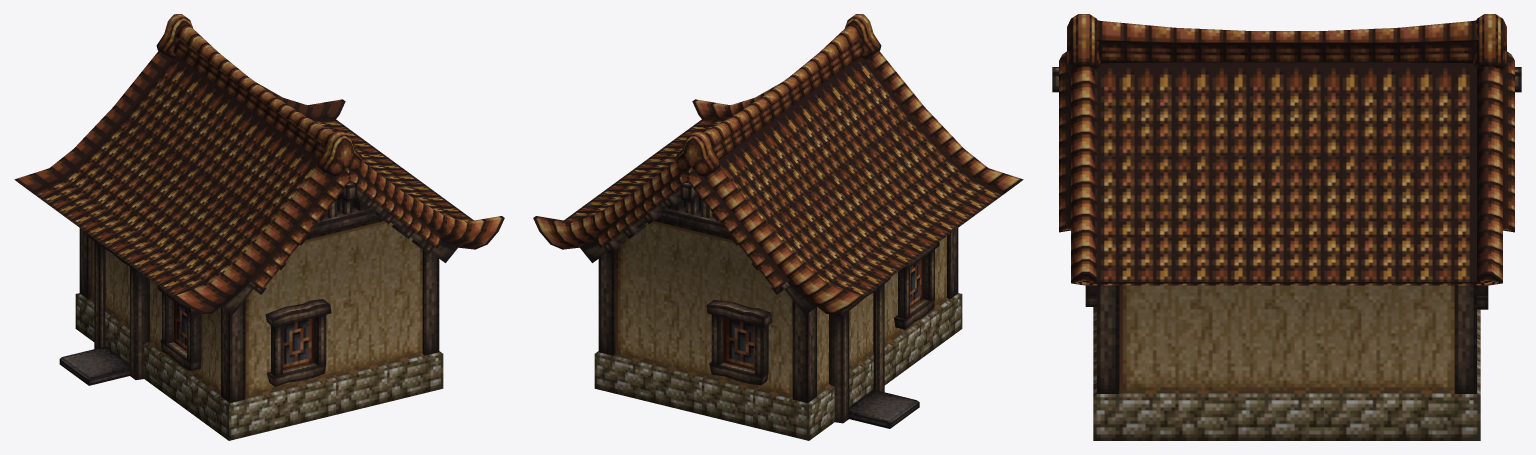
Rendered from EnvBdgMD_Desert_A_Outdoor_House_G.FBX.
3 renders of one model, left to right at view 1: azimuth 30°, elevation 25°; view 2: azimuth 150°, elevation 25°; view 3: azimuth 270°, elevation 25°, orthographic. The views are drawn at different scales.
Parts seen in each view (by area): view 1: EnvBdgMD_Desert_A_Outdoor_House_G; view 2: EnvBdgMD_Desert_A_Outdoor_House_G; view 3: EnvBdgMD_Desert_A_Outdoor_House_G.
Part boxes in pixels (x1=…): EnvBdgMD_Desert_A_Outdoor_House_G: x1=14, y1=14, x2=504, y2=440; EnvBdgMD_Desert_A_Outdoor_House_G: x1=533, y1=14, x2=1023, y2=440; EnvBdgMD_Desert_A_Outdoor_House_G: x1=1052, y1=14, x2=1521, y2=440.
Size of the model in its own units: 644 by 532 by 630.
